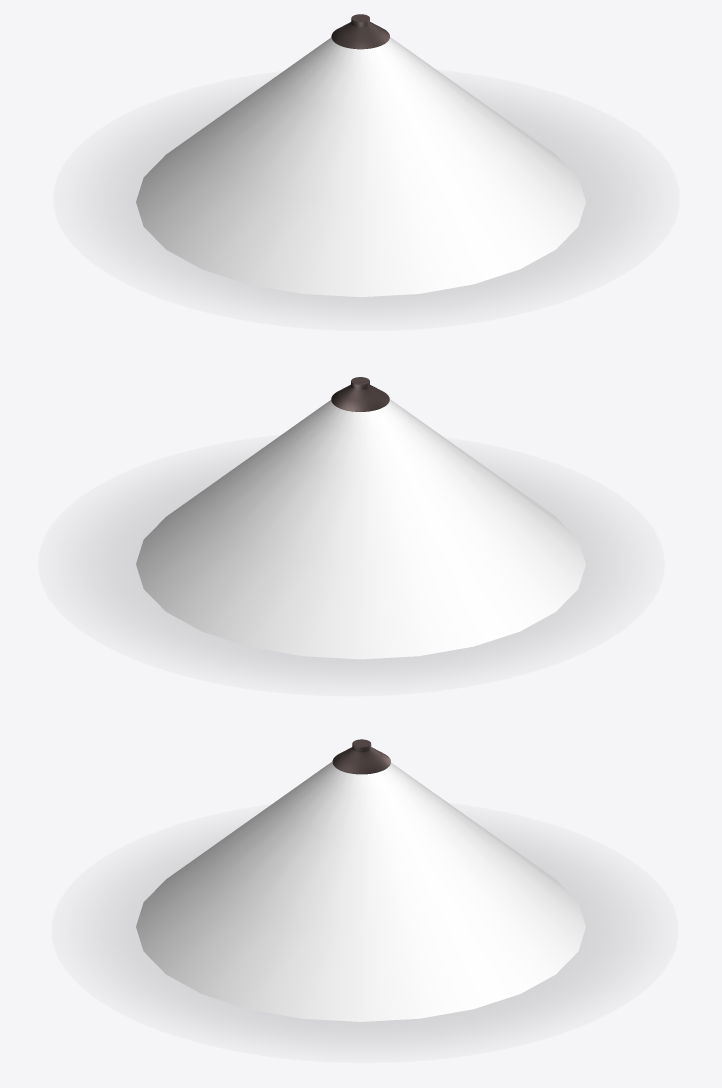
The model's file is Tiki Path Light.fbx.
The picture shows the model from 3 angles, top to bottom: view 1: azimuth 30°, elevation 25°; view 2: azimuth 150°, elevation 25°; view 3: azimuth 270°, elevation 25°; orthographic projection.
Visible parts, largest first — view 1: Cone001, Tiki Path Light; view 2: Cone001, Tiki Path Light; view 3: Cone001, Tiki Path Light.
Part boxes in pixels (<box>): Cone001: <box>136,37,585,297</box>; Tiki Path Light: <box>331,14,389,49</box>; Cone001: <box>136,399,585,659</box>; Tiki Path Light: <box>331,377,389,411</box>; Cone001: <box>136,761,585,1021</box>; Tiki Path Light: <box>332,739,390,774</box>.
Bounding box in the file's own units: 198 × 57.75 × 198.
Materials: 3 (3 with a texture image).
